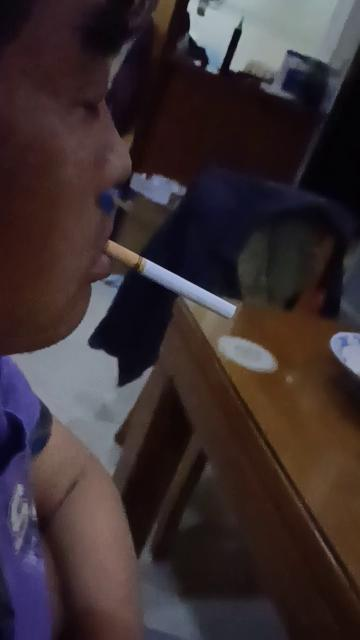Cigarette: (104, 240, 241, 320)
